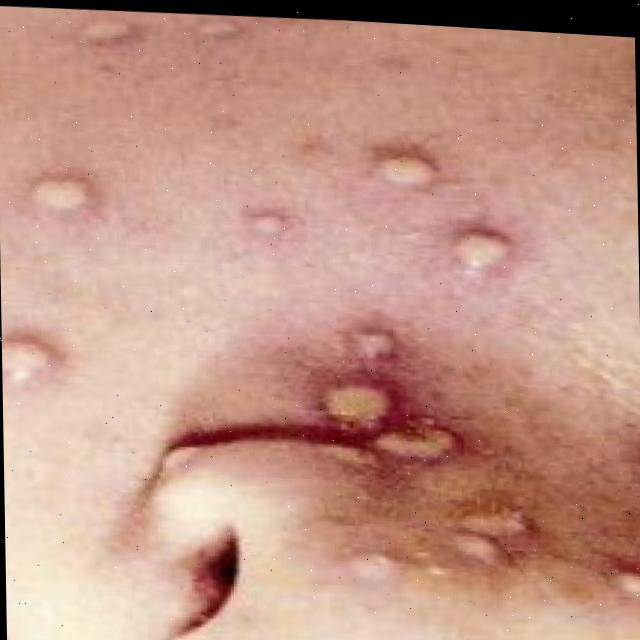Eczema: (0, 0, 640, 605)
